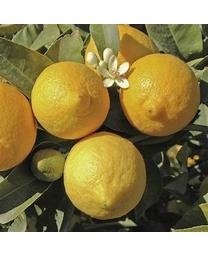lemon: (63, 133, 145, 219), (119, 54, 202, 137), (33, 62, 111, 140)
